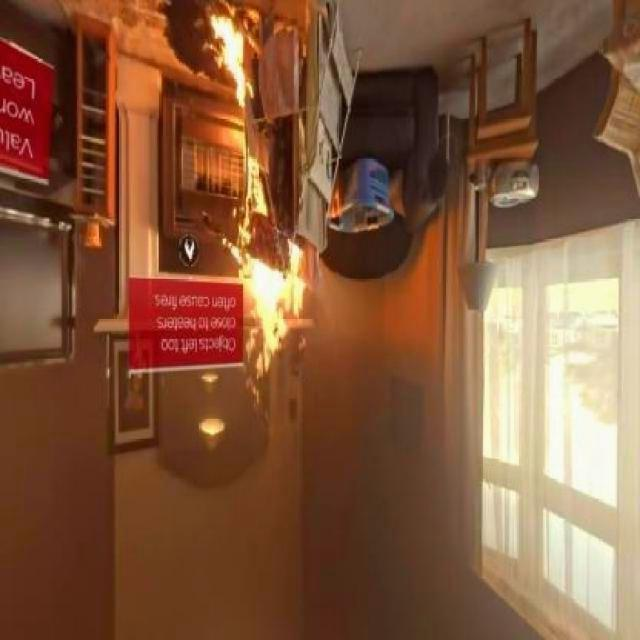fire: (224, 226, 304, 364)
